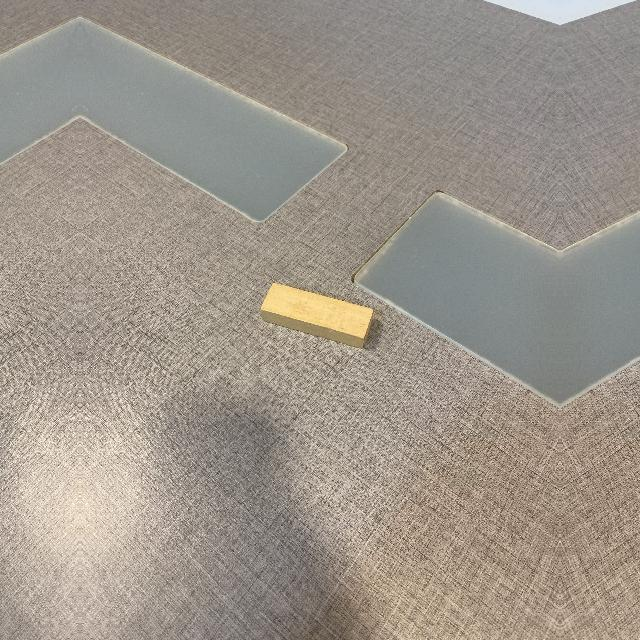jenga: (260, 283, 374, 349)
